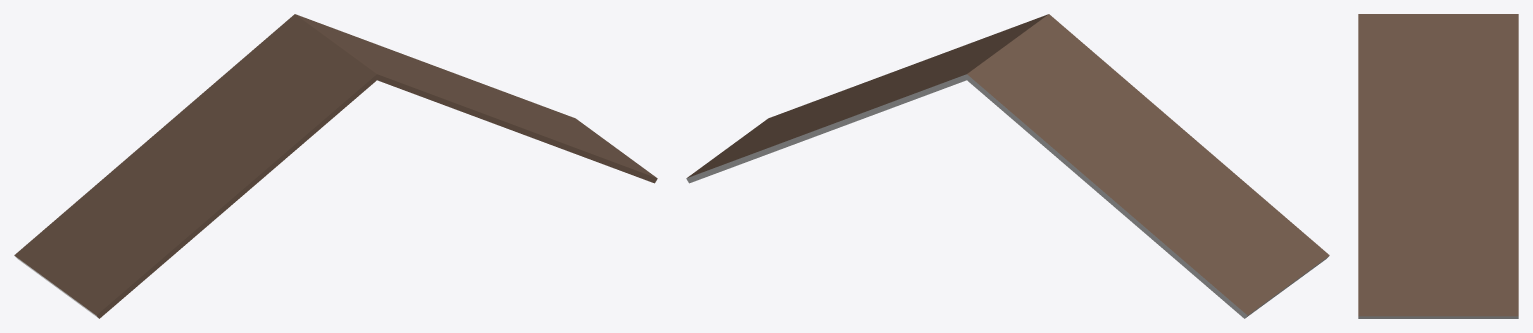
The model's file is Roof4_C2_03.fbx.
The picture shows the model from 3 angles, left to right: view 1: azimuth 30°, elevation 25°; view 2: azimuth 150°, elevation 25°; view 3: azimuth 270°, elevation 25°; orthographic projection. The views are drawn at different scales.
Parts seen in each view (by area): view 1: Roof4_C2_03; view 2: Roof4_C2_03; view 3: Roof4_C2_03.
Boxes of the visible parts, bbox=[...] form: Roof4_C2_03: bbox=[14, 14, 657, 318]; Roof4_C2_03: bbox=[686, 14, 1329, 318]; Roof4_C2_03: bbox=[1358, 14, 1518, 318].
Size of the model in its own units: 1105 by 333 by 280.
